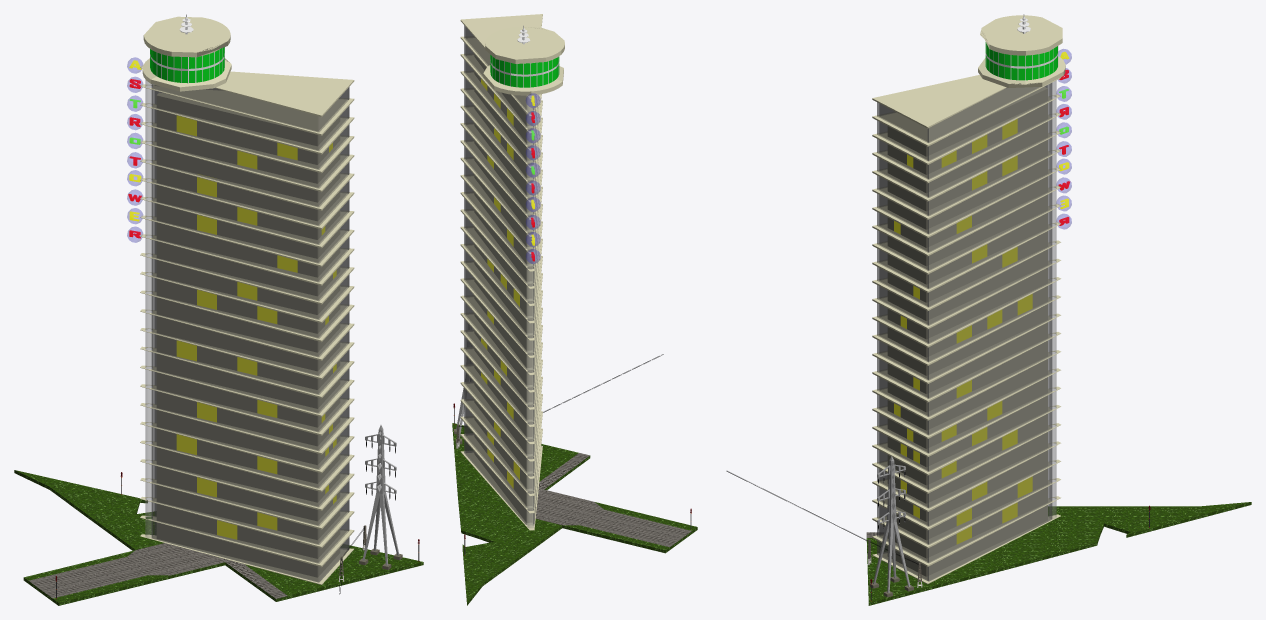
The model's file is Astro Building.glb.
3 renders of one model, left to right at view 1: azimuth 30°, elevation 25°; view 2: azimuth 150°, elevation 25°; view 3: azimuth 270°, elevation 25°, orthographic. The views are drawn at different scales.
Parts seen in each view (by area): view 1: Transparent Bricks, Int Building, Floors, Ground, Top, ElevTube, Sphere, Tower, Text; view 2: Transparent Bricks, Floors, Ground, Int Building, Top, ElevTube, Sphere, Text; view 3: Transparent Bricks, Int Building, Floors, Ground, Top, ElevTube, Tower, Sphere.
Boxes of the visible parts, box(x1,y1,x2,y2) form: Transparent Bricks: box(151, 84, 349, 582); Int Building: box(157, 93, 339, 577); Floors: box(140, 65, 354, 584); Ground: box(14, 470, 423, 605); Top: box(142, 16, 231, 91); ElevTube: box(145, 79, 152, 537); Sphere: box(127, 57, 142, 242); Tower: box(362, 425, 399, 565); Text: box(128, 60, 141, 238); Transparent Bricks: box(464, 25, 538, 524); Floors: box(460, 14, 542, 530); Ground: box(452, 423, 697, 605); Int Building: box(474, 54, 532, 522); Top: box(483, 26, 564, 95); ElevTube: box(527, 97, 534, 527); Sphere: box(526, 93, 540, 263); Text: box(531, 95, 534, 261); Transparent Bricks: box(877, 83, 1052, 581); Int Building: box(888, 87, 1047, 576); Floors: box(872, 75, 1060, 584); Ground: box(866, 502, 1251, 605); Top: box(978, 15, 1065, 87); ElevTube: box(1050, 80, 1056, 518); Tower: box(873, 456, 910, 592); Sphere: box(1056, 49, 1071, 229).
Bounding box in the file's own units: 64.43 × 104 × 95.33.
24 materials, 2 textured.
